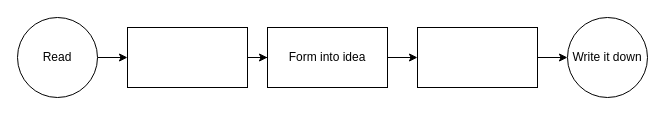
This 665x115 diagram has some shape labels left out. Each missing label, with the centre of its shape:
"Translate into text" belongs at (x=477, y=57).
"Understand" belongs at (x=187, y=57).
